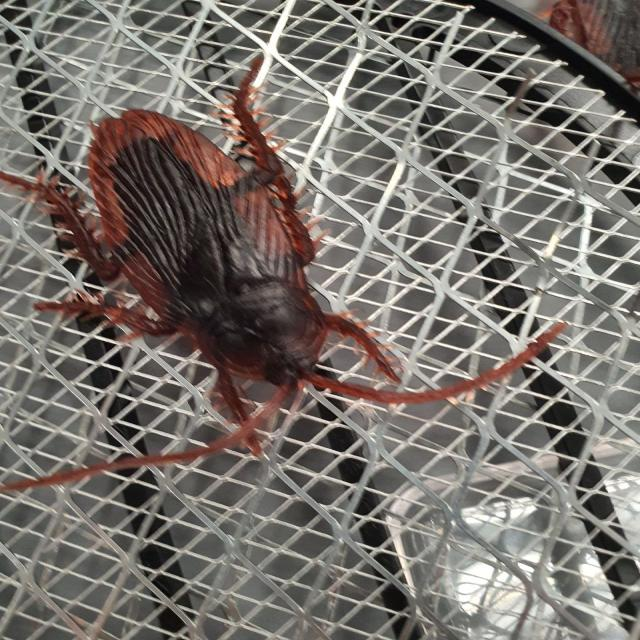Cockroach: (0, 48, 565, 504)
